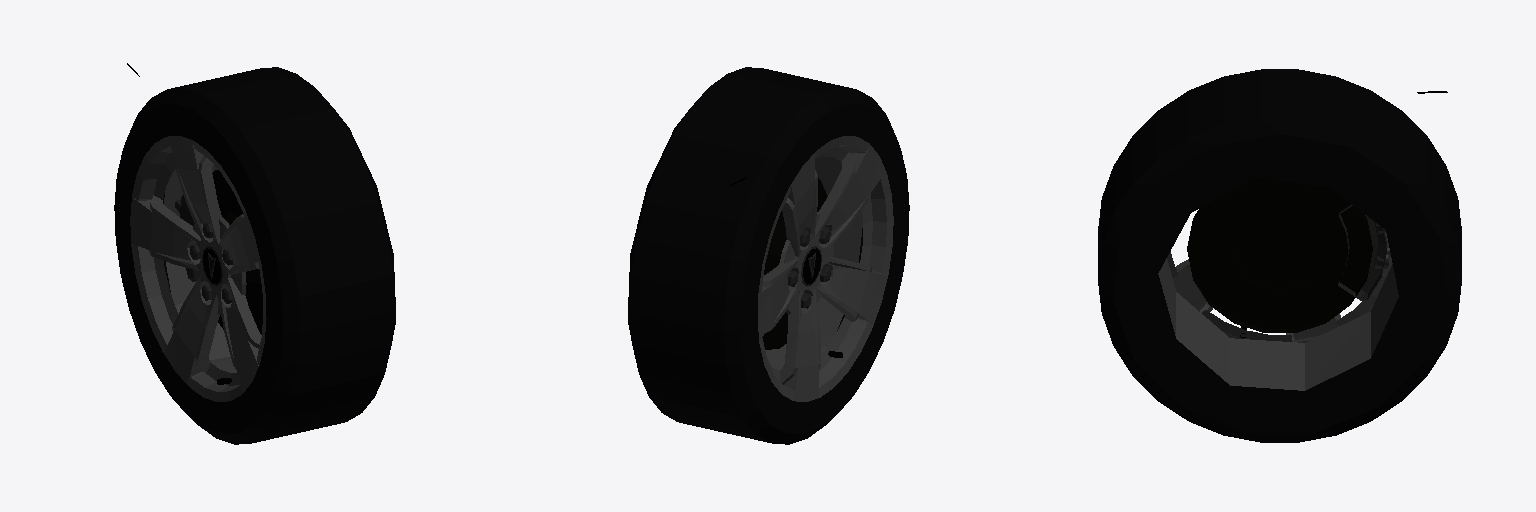
File: BR-Weel.obj
3 renders of one model, left to right at view 1: azimuth 30°, elevation 25°; view 2: azimuth 150°, elevation 25°; view 3: azimuth 270°, elevation 25°, orthographic.
Visible parts, largest first — view 1: obj0; view 2: obj0; view 3: obj0.
Part boxes in pixels (bbox=[...]): obj0: bbox=[114, 63, 395, 444]; obj0: bbox=[628, 67, 909, 444]; obj0: bbox=[1098, 69, 1461, 442].
Size of the model in its own units: 0.8208 by 2.17 by 2.17.